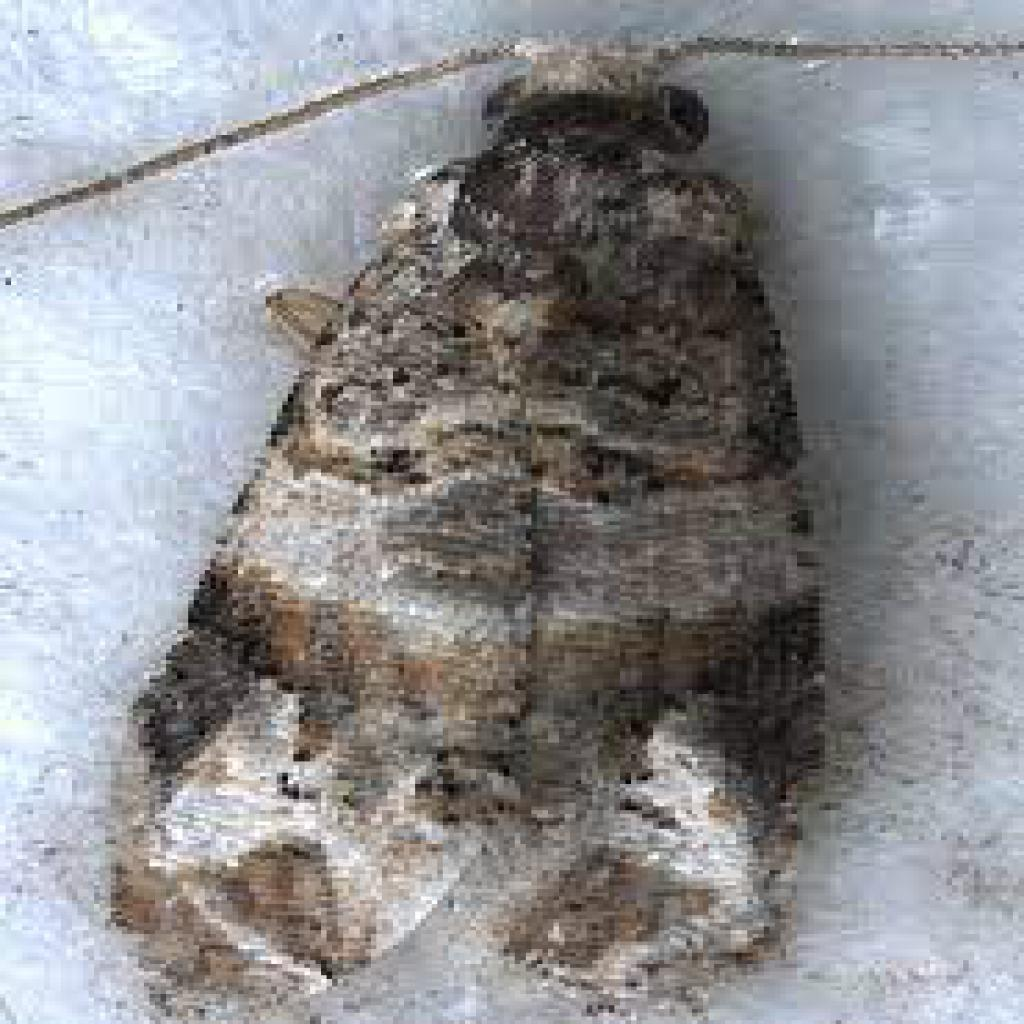grape_moth: (78, 22, 1008, 1016)
